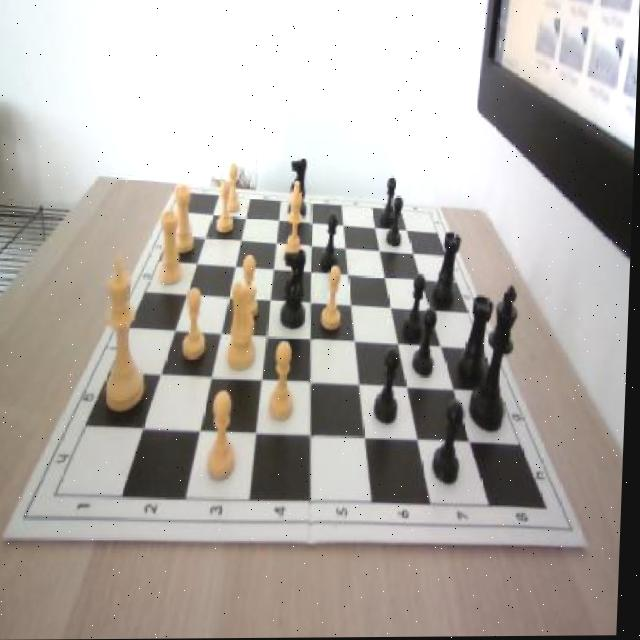black-bishop: (472, 288, 521, 432)
black-king: (281, 247, 312, 328), (287, 156, 311, 218)
black-knight: (435, 400, 467, 484), (377, 347, 405, 424), (413, 308, 439, 378), (405, 275, 429, 342), (323, 213, 343, 271), (388, 196, 405, 249), (383, 178, 400, 228)
black-queen: (461, 294, 495, 383), (436, 233, 463, 307)
black-rook: (281, 178, 310, 275)
white-bishop: (105, 252, 152, 411)
white-king: (223, 272, 265, 374)
white-knight: (207, 391, 242, 481), (269, 338, 303, 423), (182, 287, 211, 363), (237, 256, 263, 323), (324, 264, 347, 330), (224, 166, 244, 215), (218, 182, 237, 232)
white-queen: (159, 209, 189, 284), (172, 184, 197, 256)
